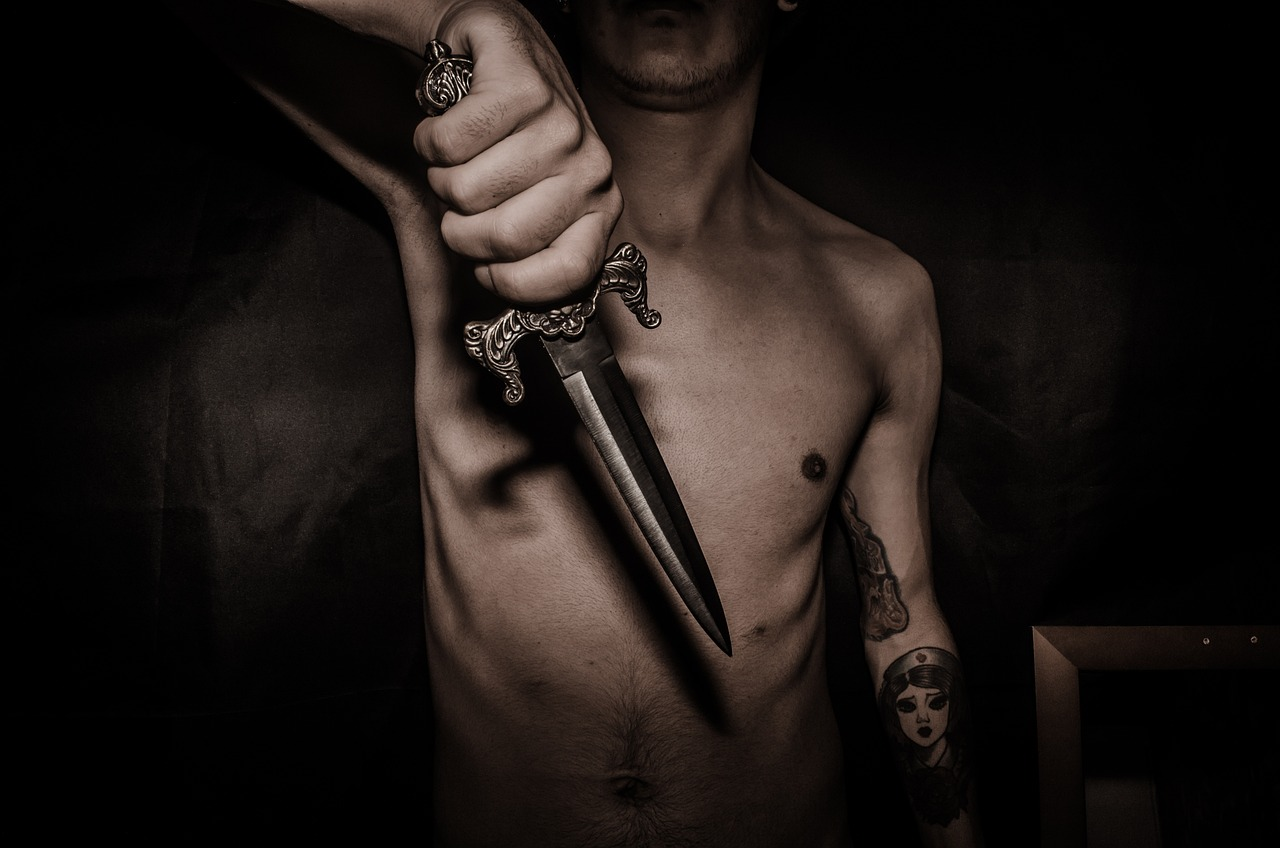knife: (412, 37, 746, 672)
